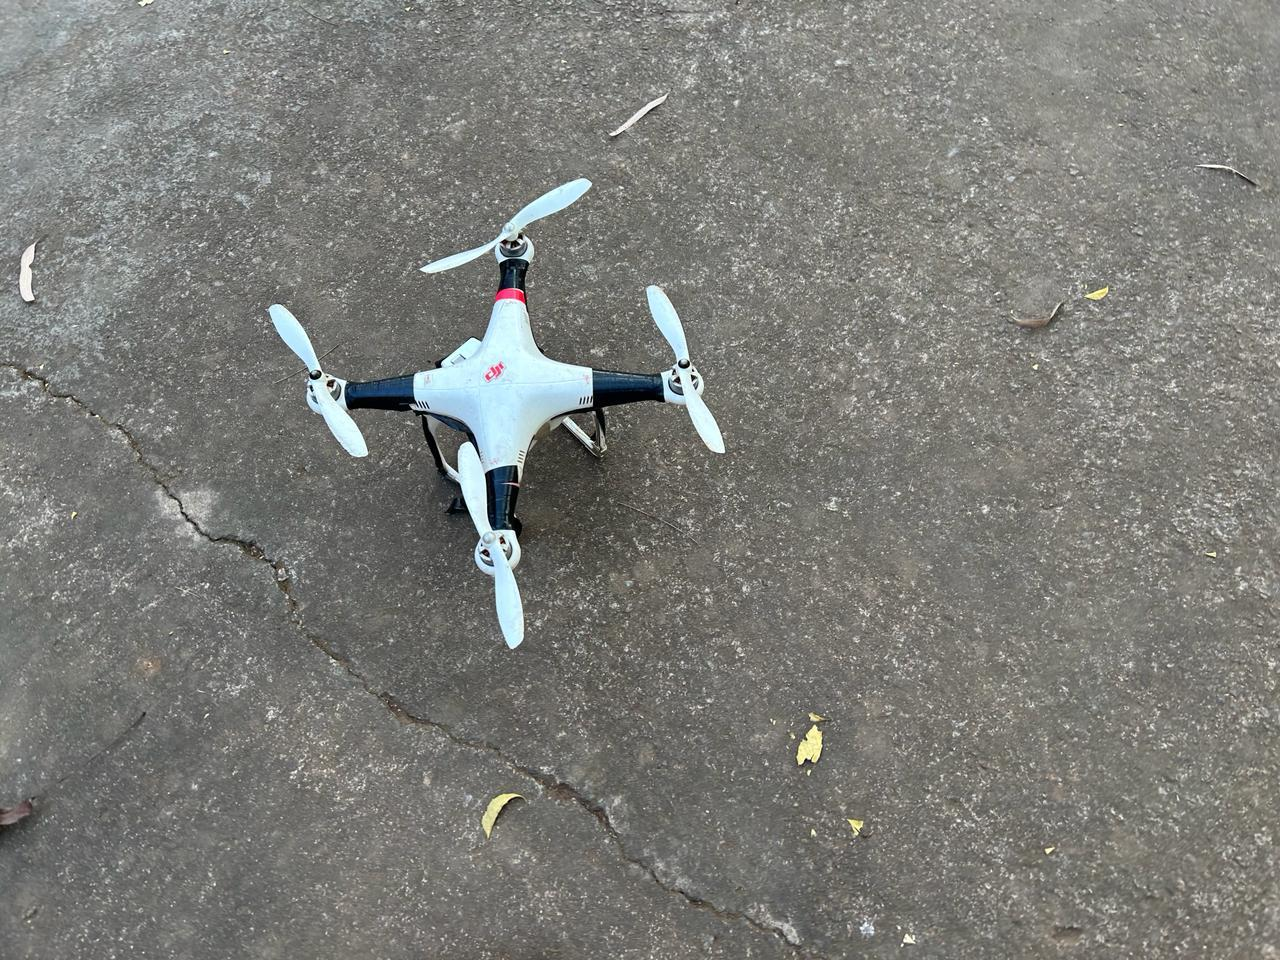drone: (213, 142, 838, 699)
